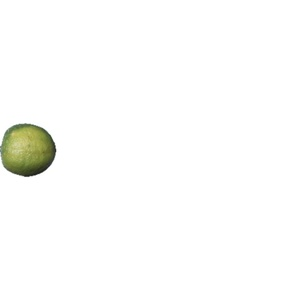limão: (1, 124, 56, 177)
